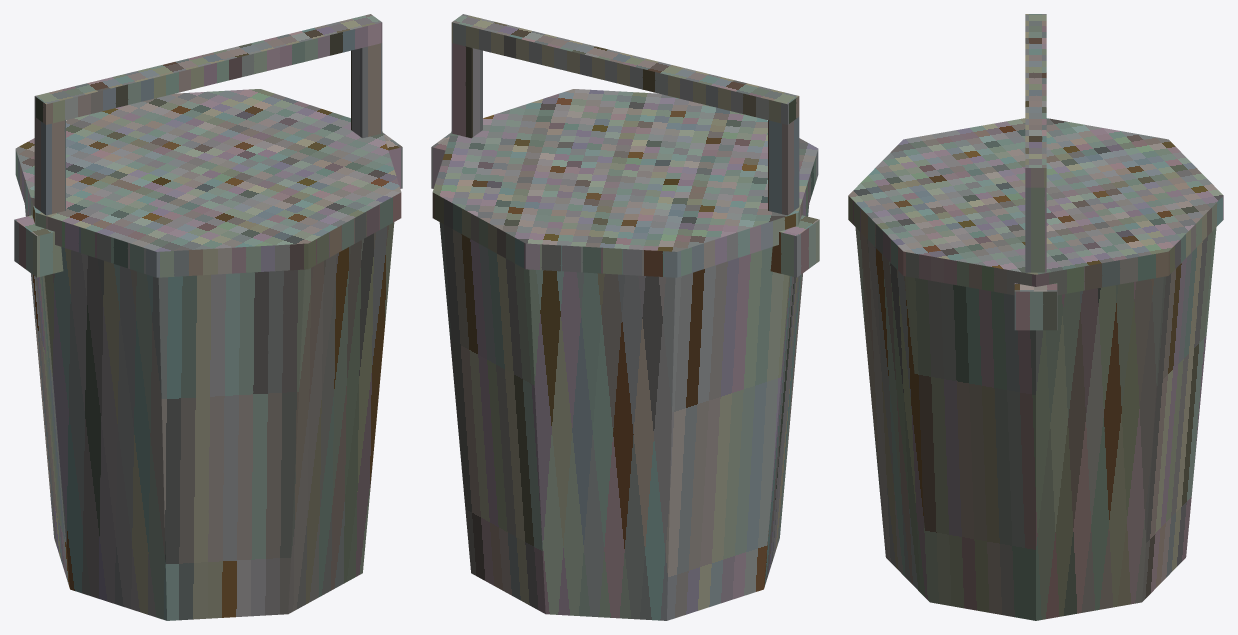
The model's file is Bucket.glb.
3 renders of one model, left to right at view 1: azimuth 30°, elevation 25°; view 2: azimuth 150°, elevation 25°; view 3: azimuth 270°, elevation 25°, orthographic. The views are drawn at different scales.
Visible parts, largest first — view 1: Bucket; view 2: Bucket; view 3: Bucket.
Part boxes in pixels (left/top/right/bottom): Bucket: left=14, top=14, right=402, bottom=620; Bucket: left=431, top=14, right=819, bottom=620; Bucket: left=848, top=14, right=1223, bottom=620.
Size of the model in its own units: 0.37 by 0.48 by 0.35.
Materials: 2 (2 with a texture image).
